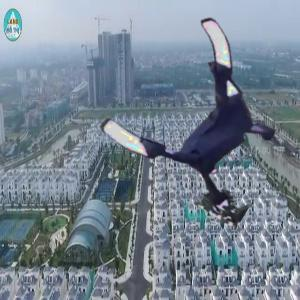drone: (122, 28, 294, 200)
